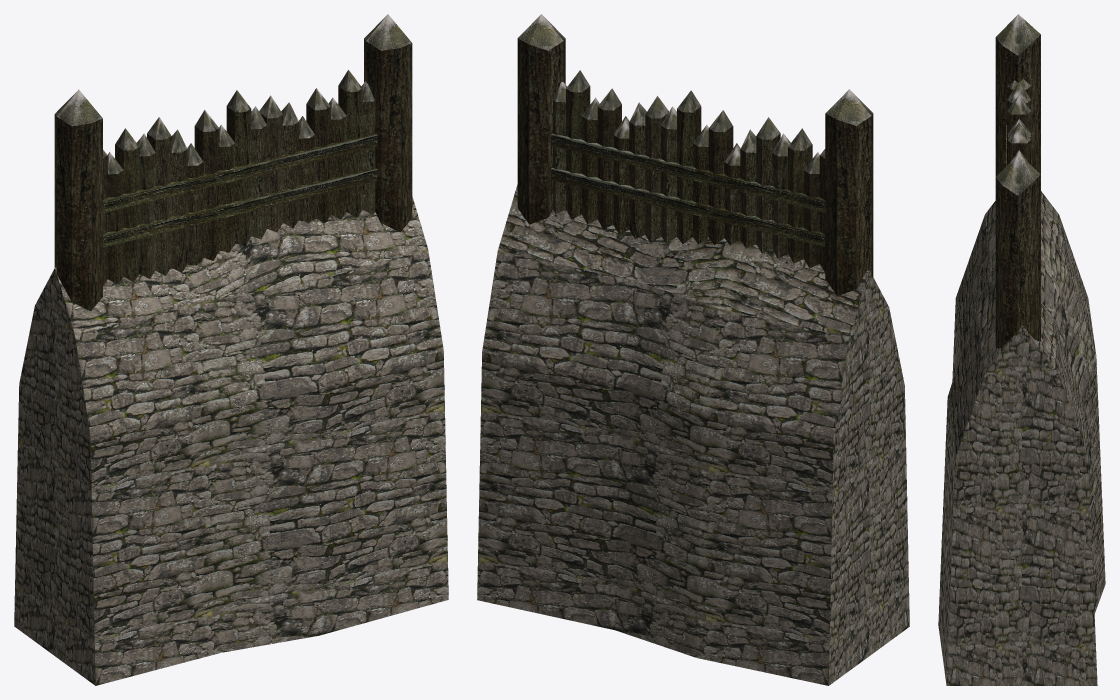
The model's file is mur3.glb.
The picture shows the model from 3 angles, left to right: view 1: azimuth 30°, elevation 25°; view 2: azimuth 150°, elevation 25°; view 3: azimuth 270°, elevation 25°; orthographic projection. The views are drawn at different scales.
Visible parts, largest first — view 1: zengin; view 2: zengin; view 3: zengin.
Part boxes in pixels (left/top/right/bottom): zengin: left=14, top=14, right=448, bottom=685; zengin: left=477, top=14, right=909, bottom=685; zengin: left=938, top=14, right=1105, bottom=685.
Bounding box in the file's own units: 5.89 × 8.98 × 2.61.
Materials: 4 (4 with a texture image).
